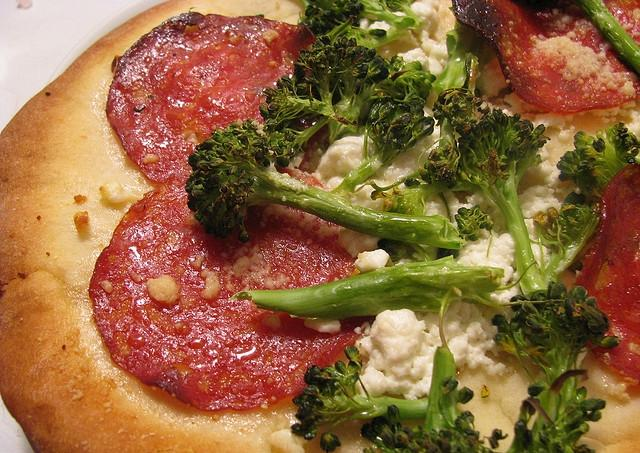broccoli: (186, 117, 468, 250), (228, 254, 564, 352), (416, 106, 551, 298), (492, 282, 622, 453), (362, 345, 508, 453), (291, 345, 428, 452), (260, 36, 378, 156), (329, 96, 435, 197), (327, 56, 437, 145), (557, 122, 640, 199), (575, 0, 640, 74), (298, 0, 416, 36), (326, 15, 407, 49), (455, 205, 494, 241)
